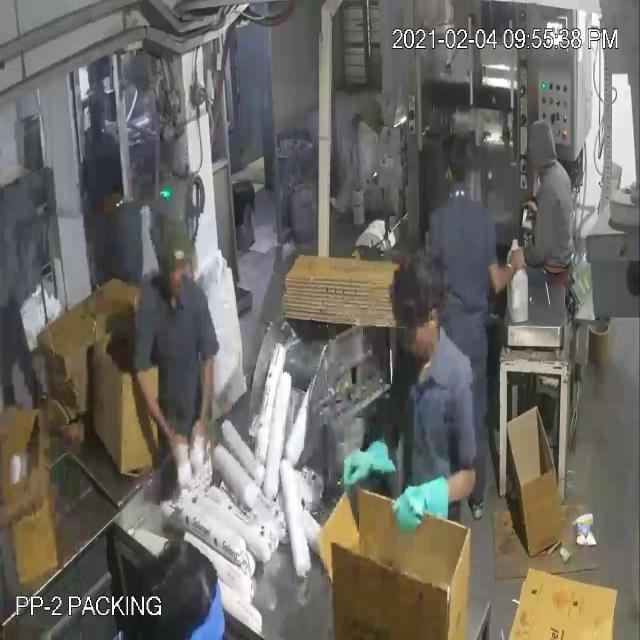gloves: (392, 464, 462, 539), (334, 431, 398, 502)
no-gloves: (126, 354, 190, 482), (190, 337, 226, 485), (487, 242, 525, 300)
